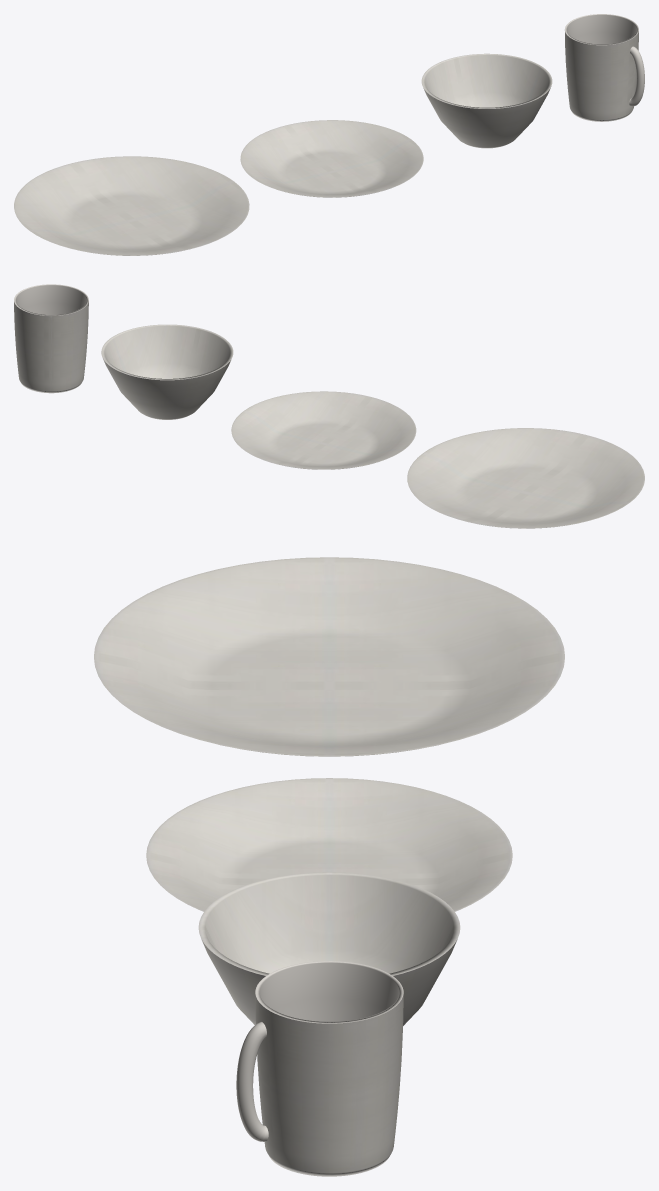
Rendered from MAR-09.glb.
The picture shows the model from 3 angles, top to bottom: view 1: azimuth 30°, elevation 25°; view 2: azimuth 150°, elevation 25°; view 3: azimuth 270°, elevation 25°; orthographic projection. The views are drawn at different scales.
Bounding box in the file's own units: 0.7995 × 0.1 × 0.27.
9 materials, 7 textured.
